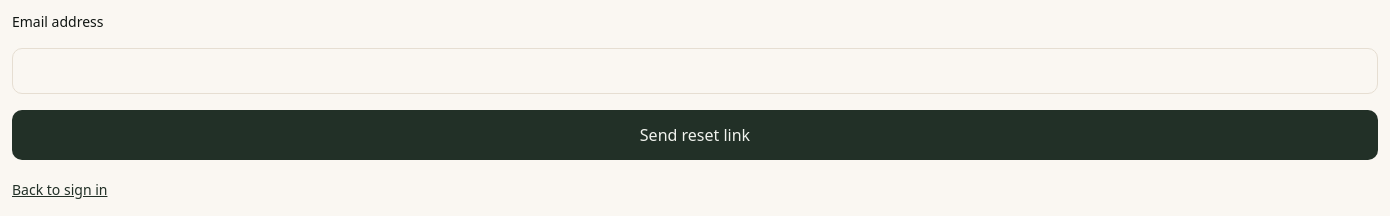
Test: account and invitation workflows › requests reset generically, validates confirmation, and never automatically signs in
Later steps or results of the test are not shown.
Type "member@example.com" into the field labelled "Email address" at (695, 71), box [12,48,1378,94]
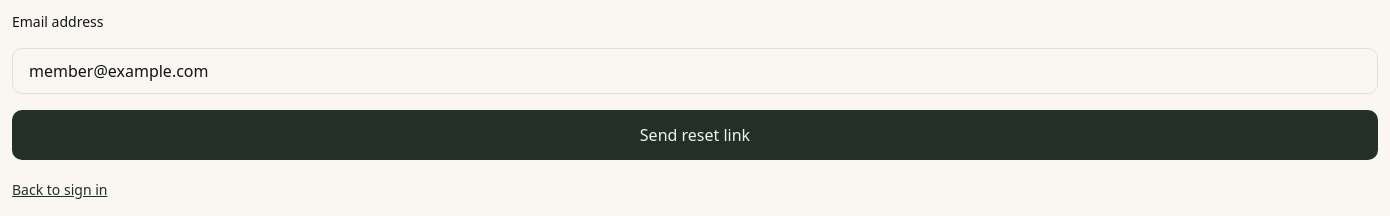
Submit the form
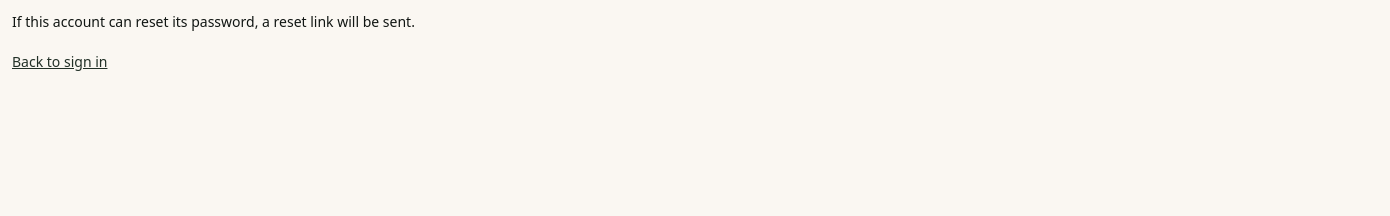
Now the text "If this account can reset its password, a reset link will be sent." is shown, box [12,12,415,31]
